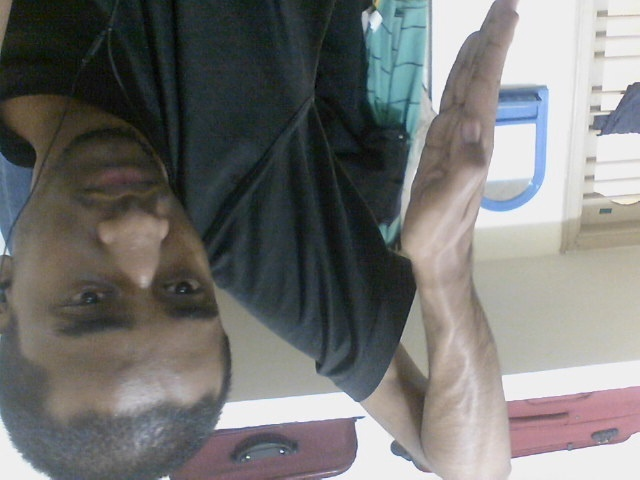hand: (397, 1, 522, 276)
